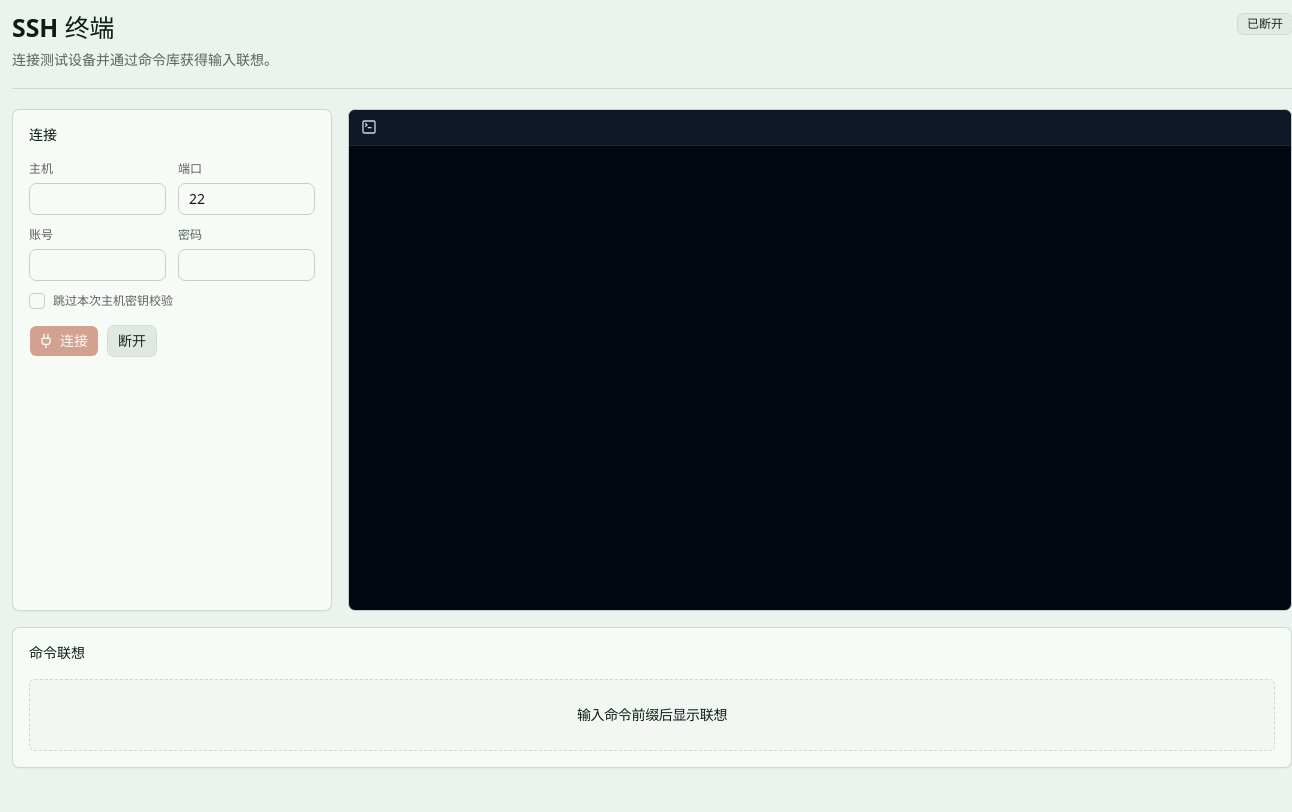
SshTerminalPage › transitions the connect button through SSH connection states
Type "127.0.0.1" into the field labelled "主机" at (98,199), box [29, 183, 166, 215]
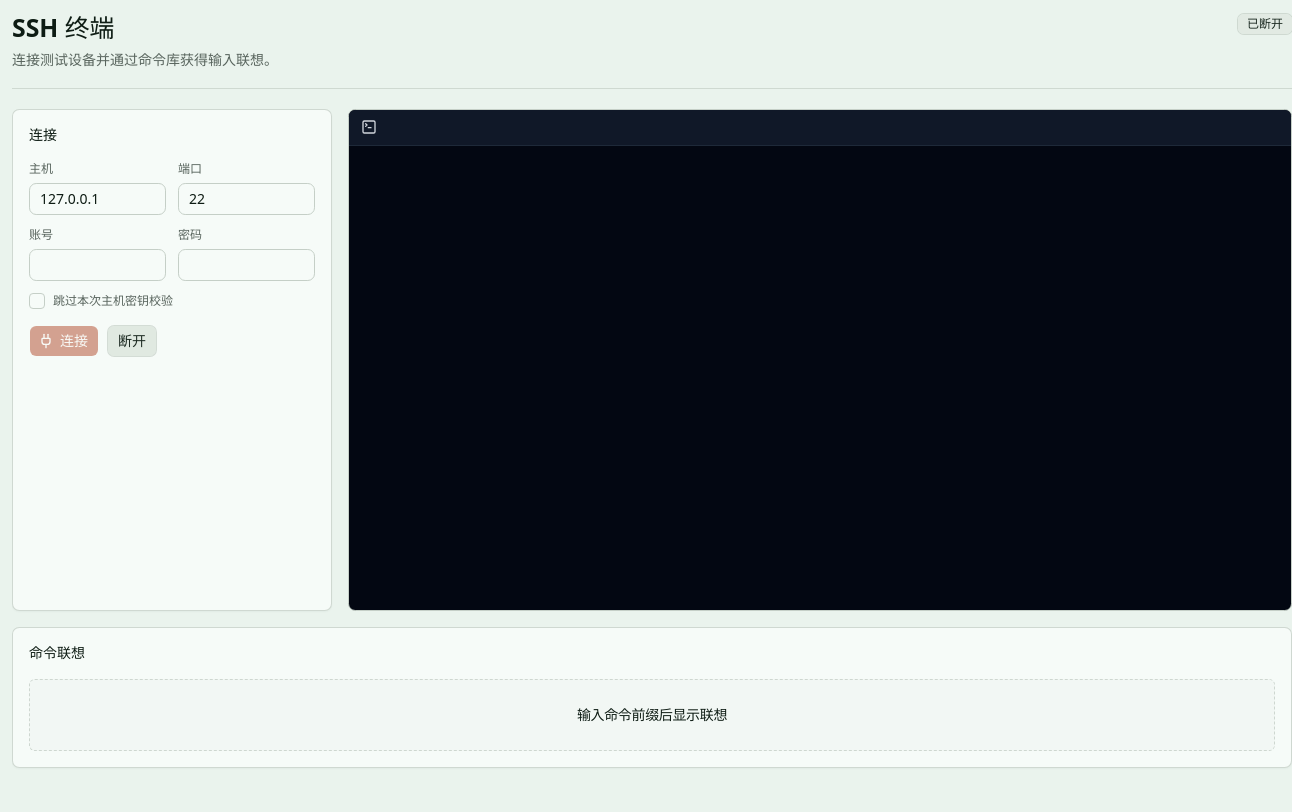
Type "tester" into the field labelled "账号" at (98,265), box [29, 249, 166, 281]
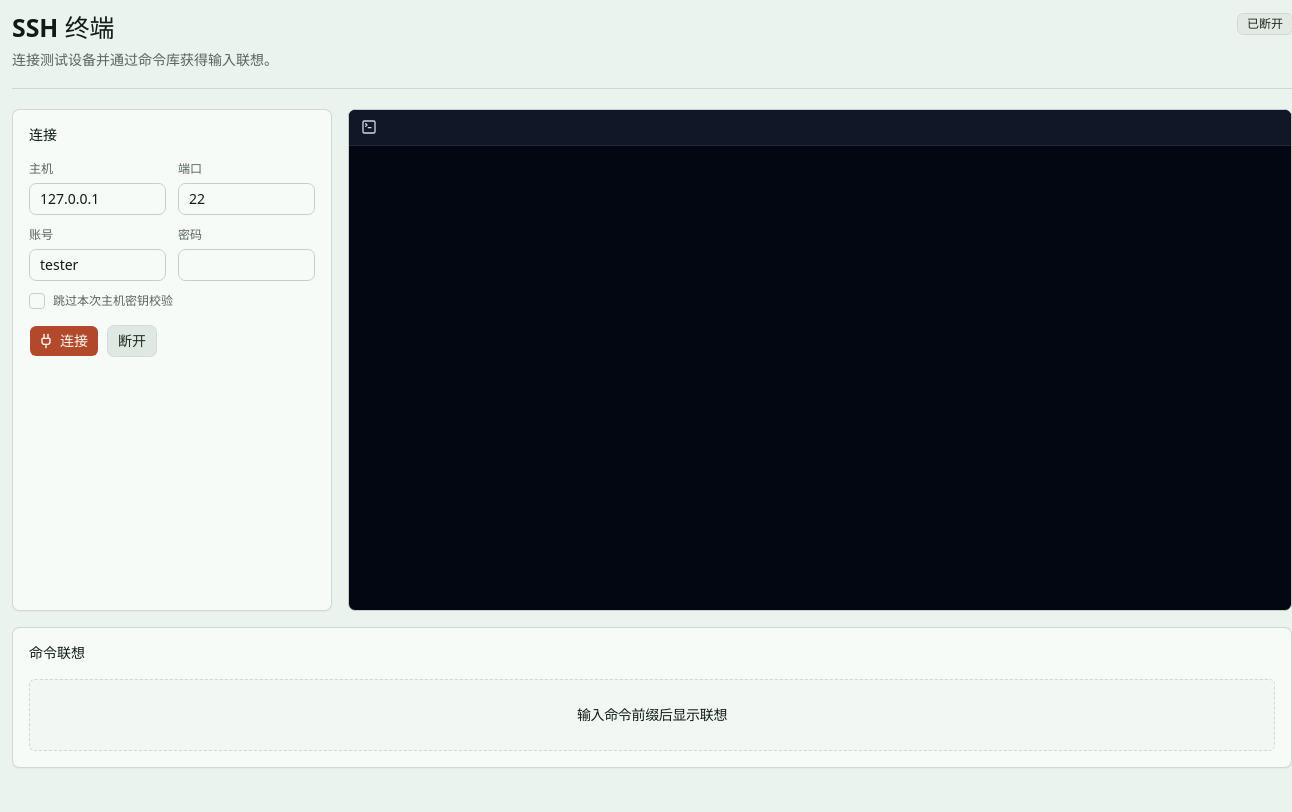
Click the button "连接" at (64,341), box [29, 325, 99, 357]
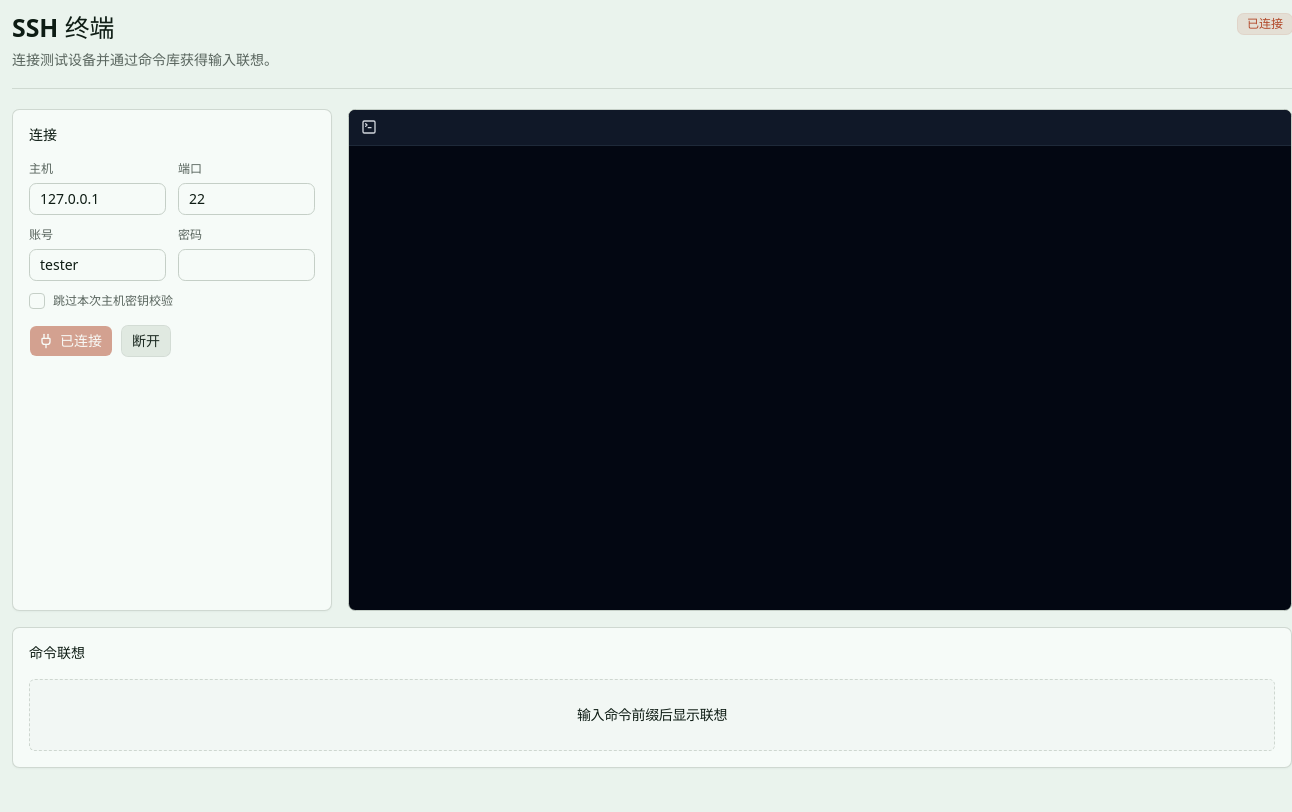
Check: the button named "连接中" is disabled, box [29, 325, 113, 357]
Check: the button "已连接" is disabled, box [29, 325, 113, 357]
Click the button "断开" at (146,341), box [121, 325, 171, 357]
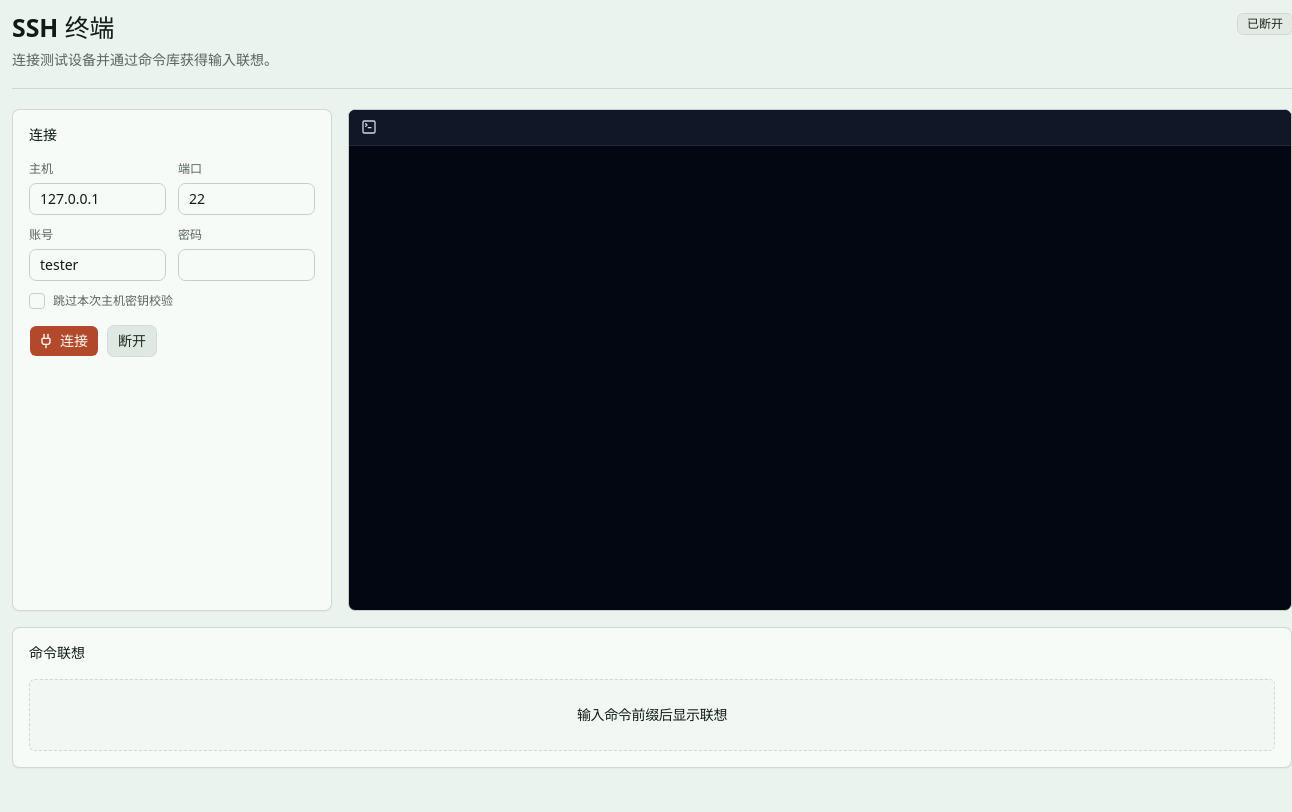
Check: the button "连接" is enabled, box [29, 325, 99, 357]
